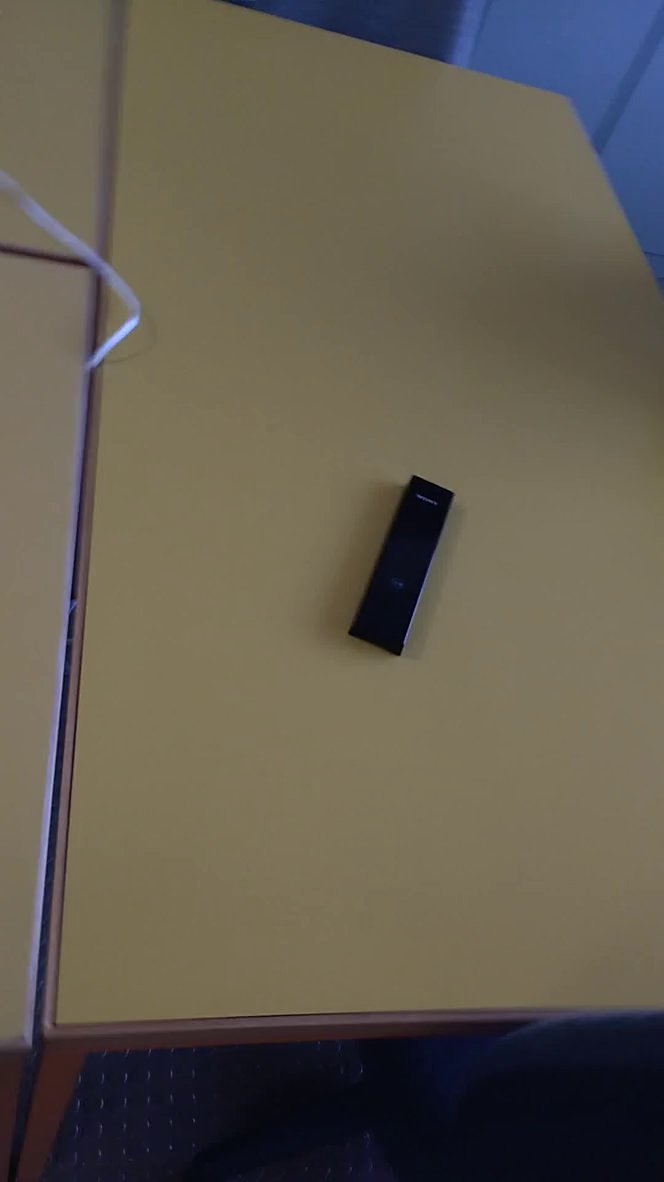remote: (338, 464, 476, 668)
